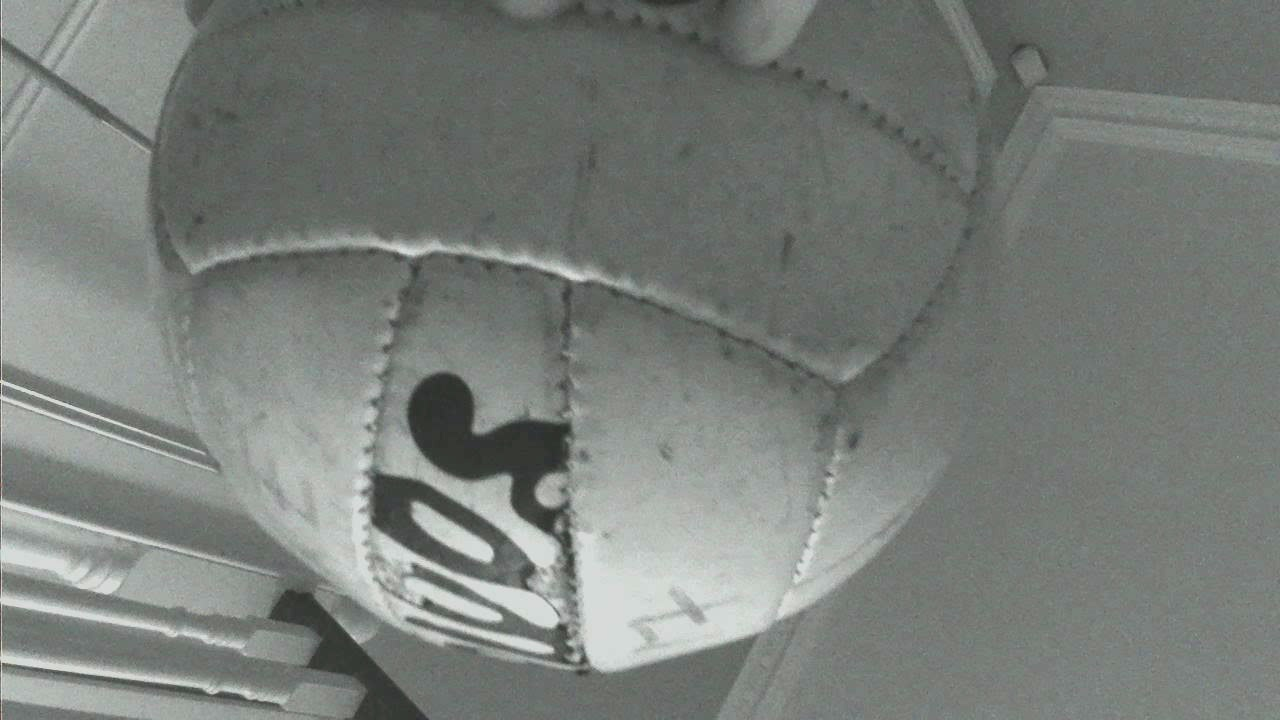Football-Spotter: (149, 0, 975, 670)
